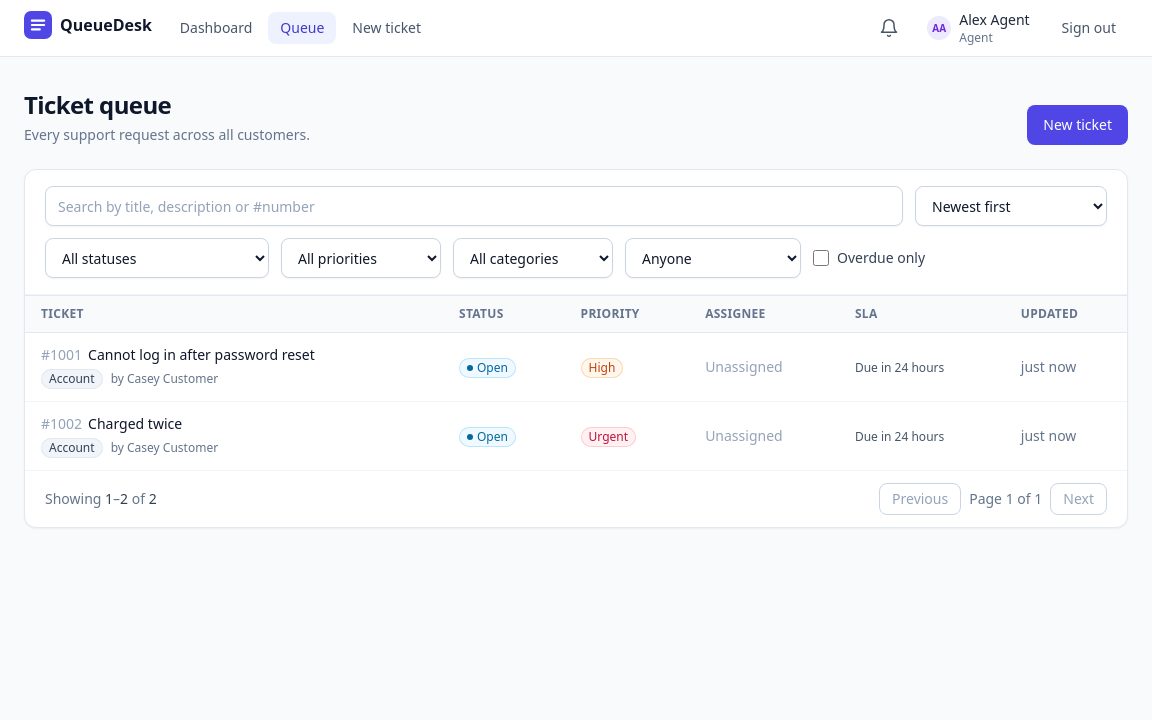
it: notification bell › shows an empty state and closes with Escape
This screenshot has width=1152, height=720.
Click the button named "Notifications".
click(889, 28)  # box top-left (871, 10), bottom-right (907, 46)
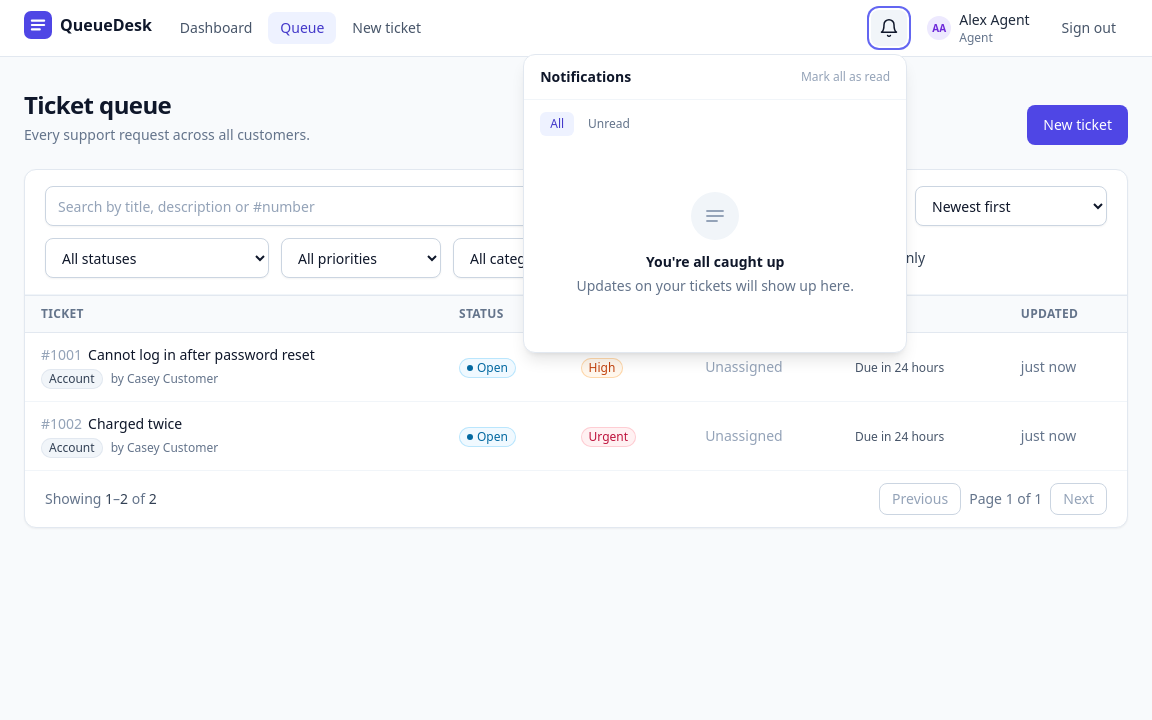
Check: the heading "You're all caught up" is shown, box top-left (646, 252), bottom-right (784, 272)
Press Escape
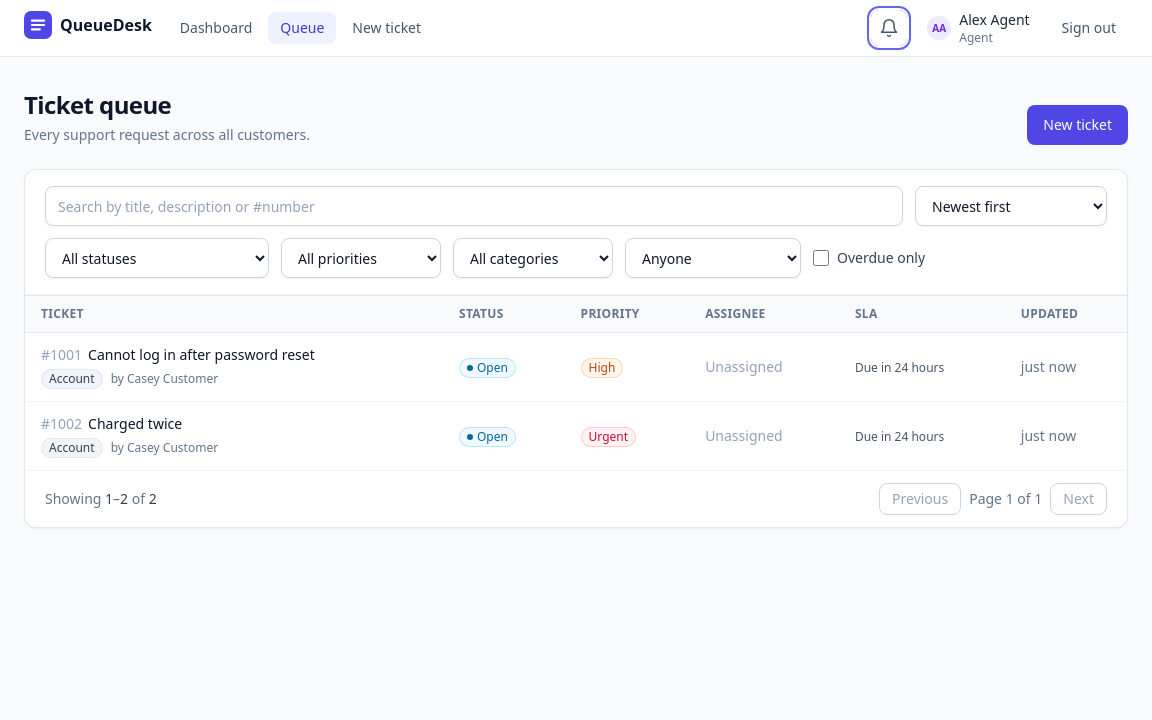
Check: the heading "Notifications" is gone
